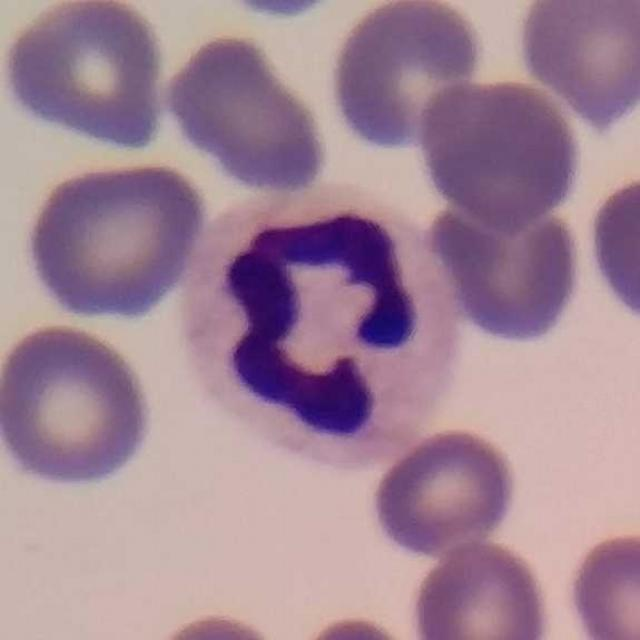Neutrophil: (173, 189, 454, 472)
RBC: (15, 156, 212, 325), (158, 28, 335, 197), (0, 317, 160, 495), (412, 74, 588, 232), (1, 1, 174, 157), (422, 188, 588, 348), (324, 1, 489, 154), (366, 423, 522, 556), (512, 0, 640, 129), (406, 536, 556, 640), (583, 166, 640, 335), (562, 525, 640, 640), (133, 606, 299, 640), (288, 611, 428, 640), (217, 0, 344, 26)
